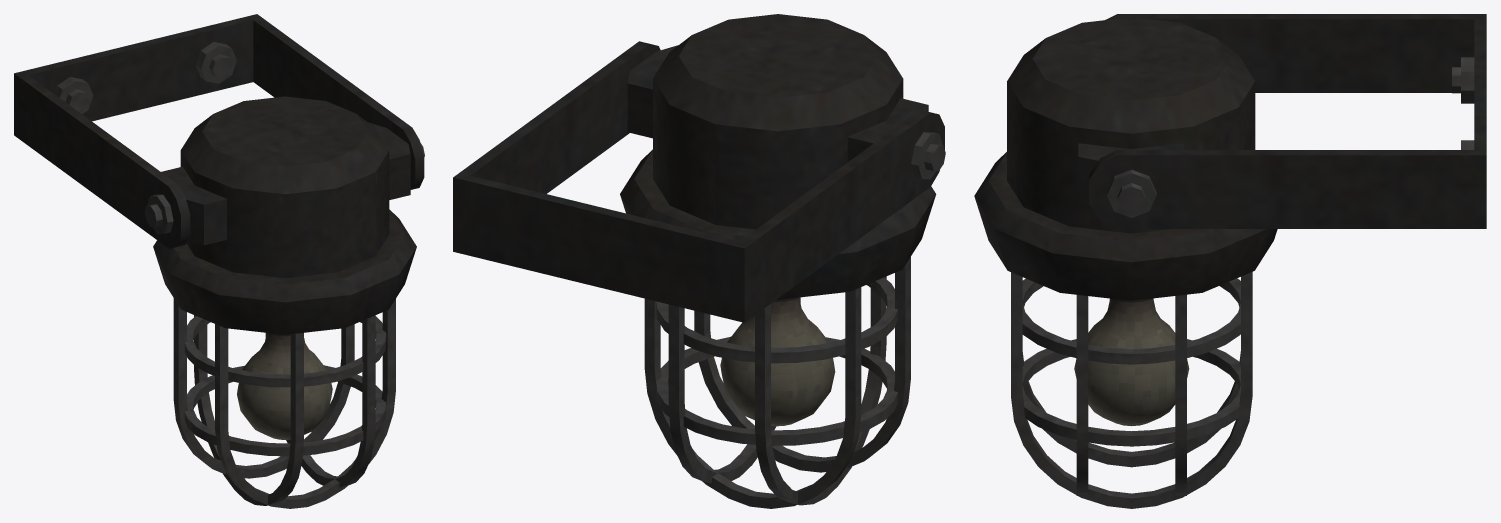
File: lamp_mx_1_1_off.obj
3 views of the same model, side by side, from view 1: azimuth 30°, elevation 25°; view 2: azimuth 150°, elevation 25°; view 3: azimuth 270°, elevation 25° (orthographic). The views are drawn at different scales.
Parts seen in each view (by area): view 1: lamp_mx_1_1_off; view 2: lamp_mx_1_1_off; view 3: lamp_mx_1_1_off.
Boxes of the visible parts, <box> form: lamp_mx_1_1_off: <box>14,14,424,508</box>; lamp_mx_1_1_off: <box>453,14,945,508</box>; lamp_mx_1_1_off: <box>974,14,1486,508</box>.
Size of the model in its own units: 0.2245 by 0.2865 by 0.3118.
